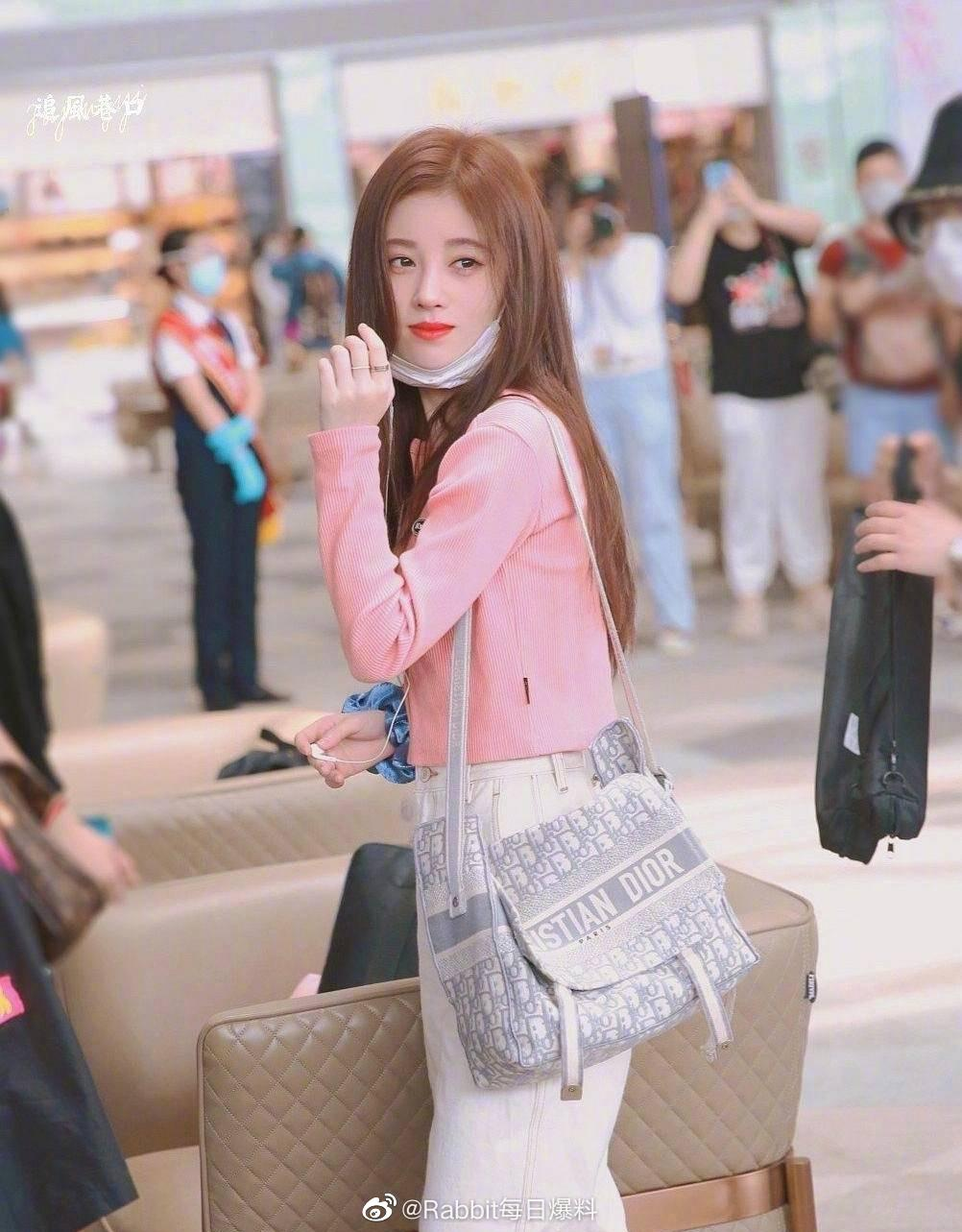OK: (911, 186, 962, 310), (175, 238, 226, 300), (856, 159, 908, 214)
WRONG: (373, 222, 502, 389)
